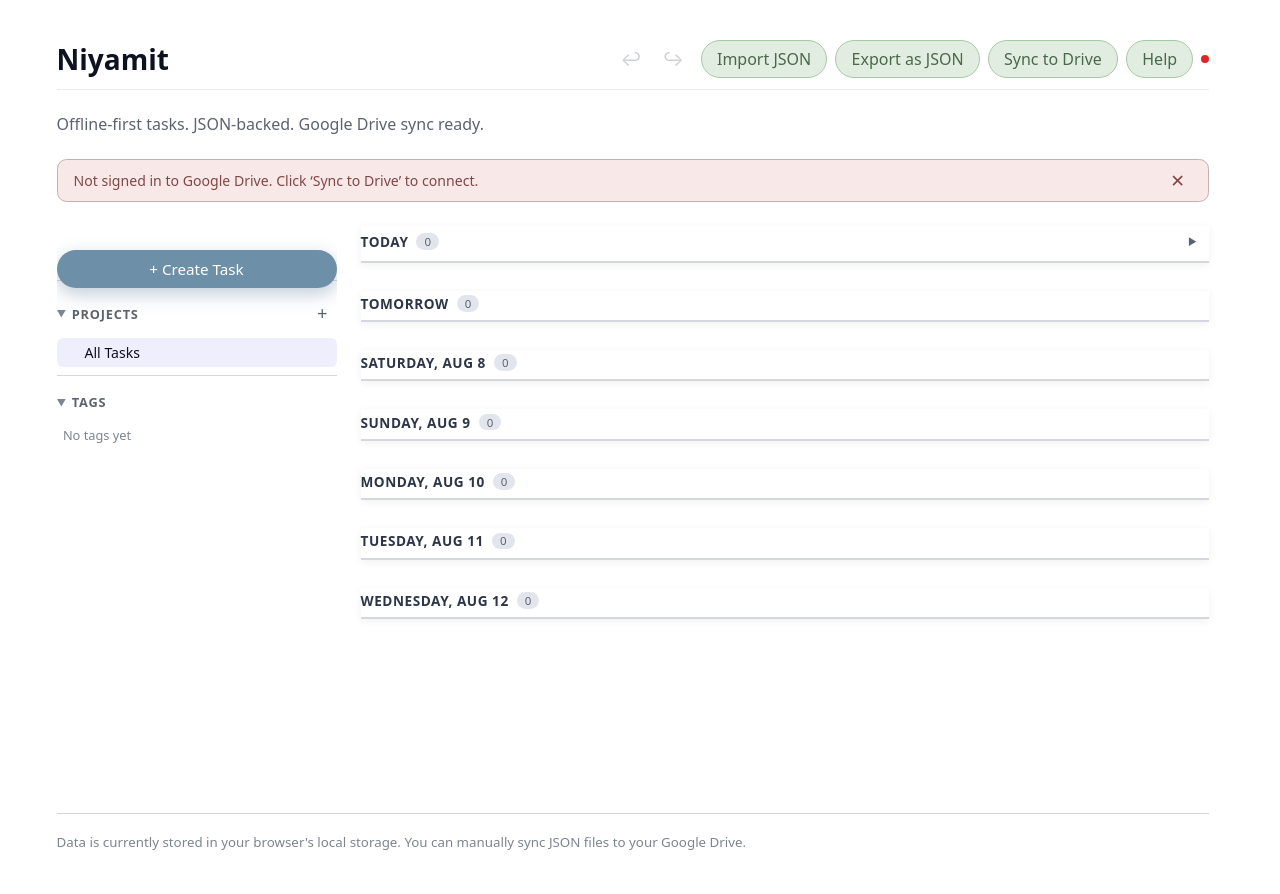
Scenario: App smoke test › adding a task via the form makes it appear in the list
The image size is (1280, 894).
Click the button "+ Create Task": (196, 269) [56,250,336,288]
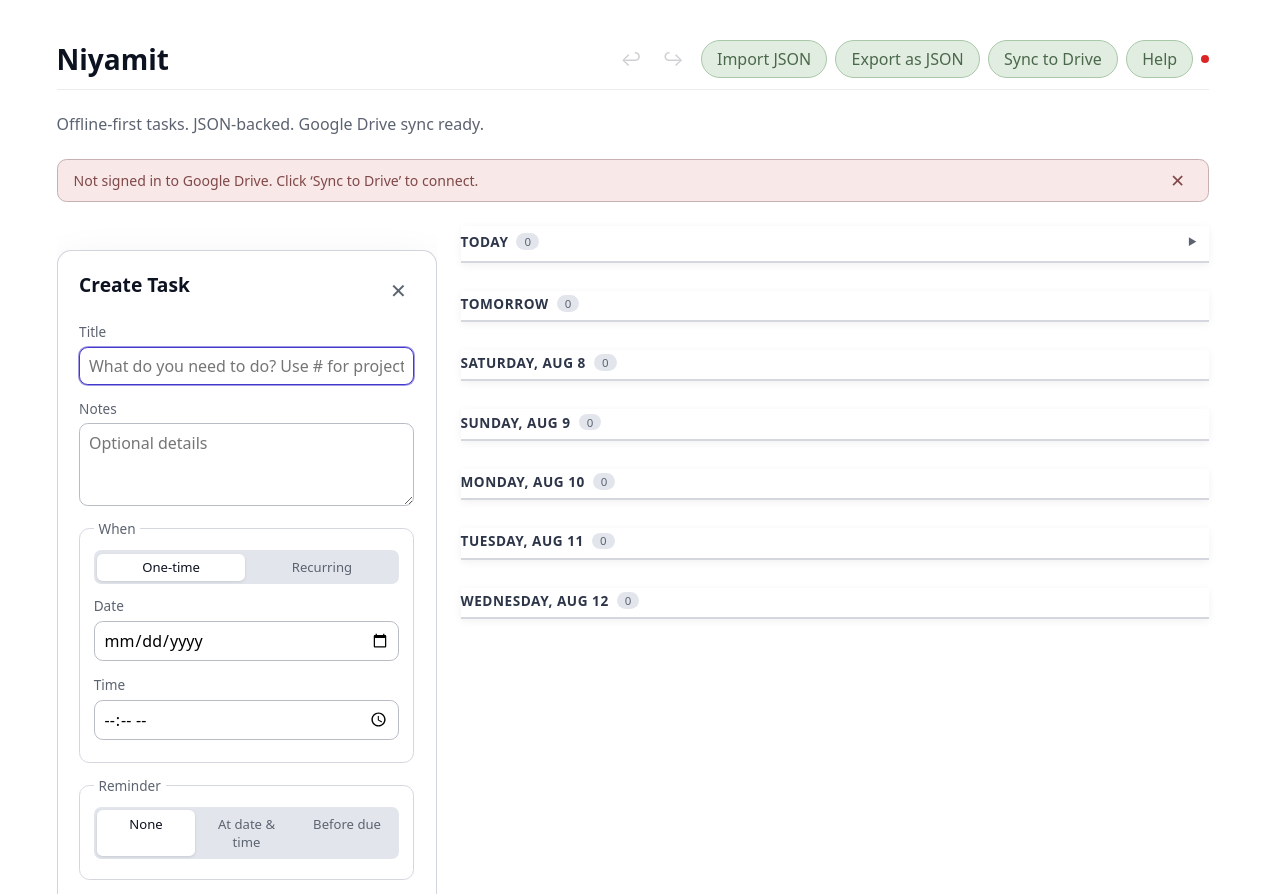
In the field with placeholder "What do you need to do? Use # for project, @ for tag": (246, 366) [79,347,414,385], type "Buy milk"
(page scrolled)
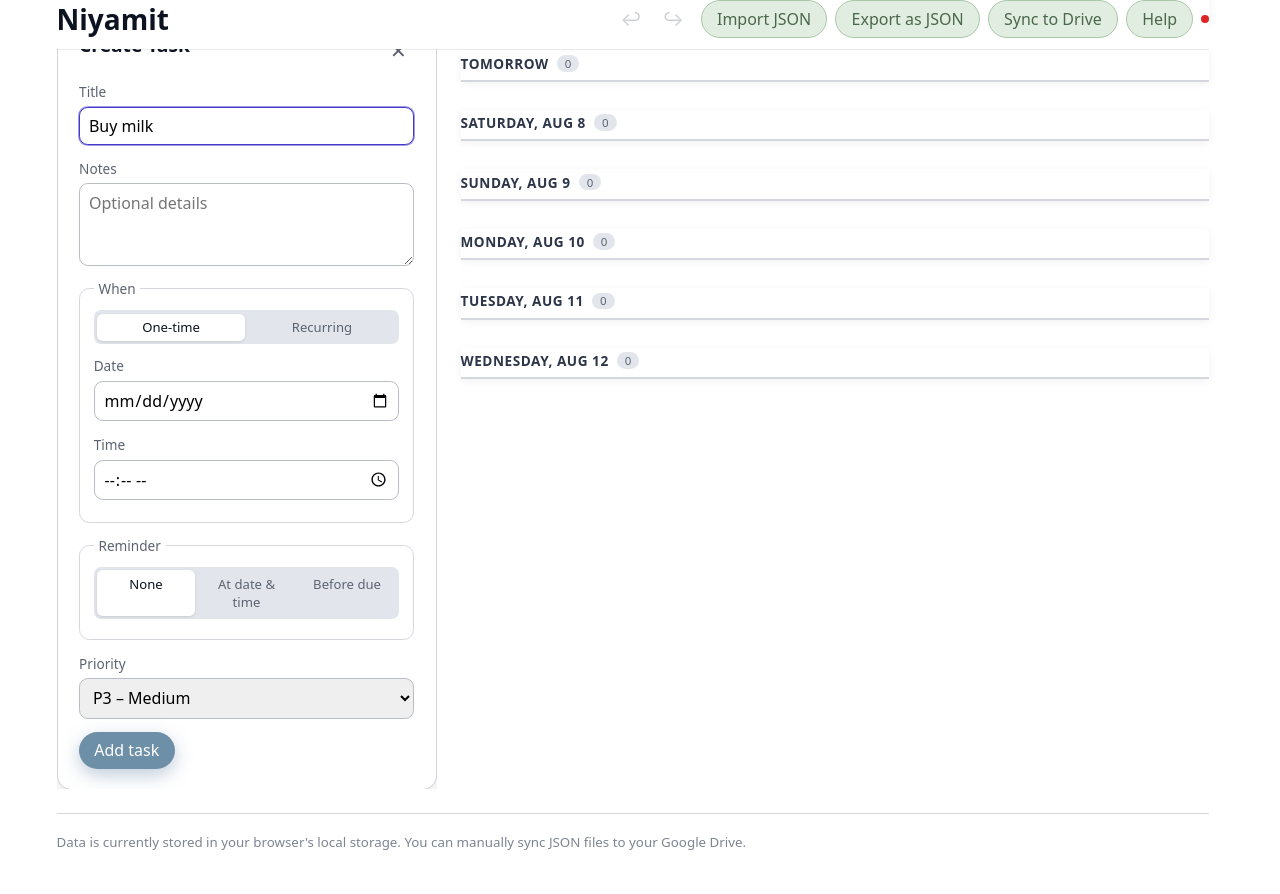
Click the button "Add task": (127, 750) [79,732,174,769]
(page scrolled)
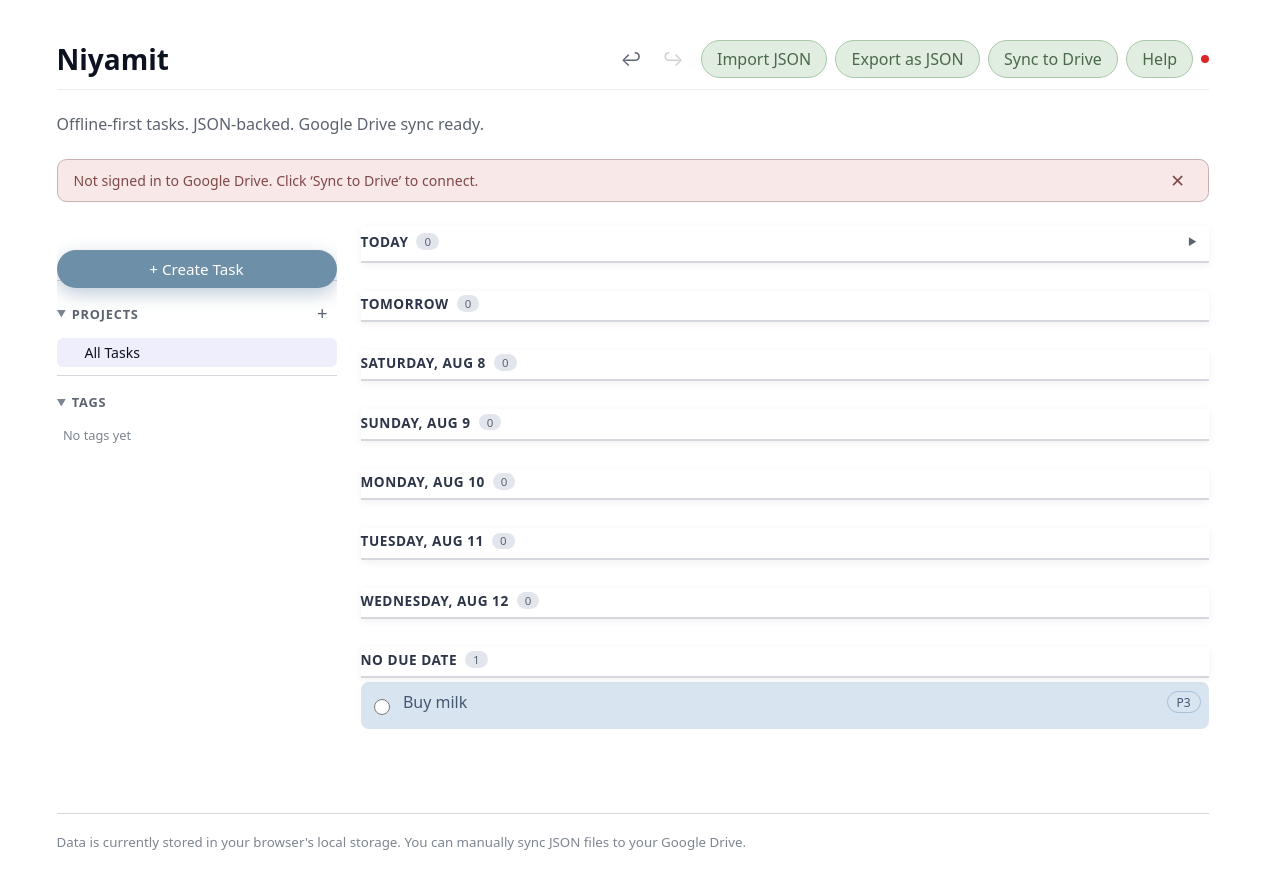
Check: the text "Buy milk" is shown, box [403,691,467,713]
